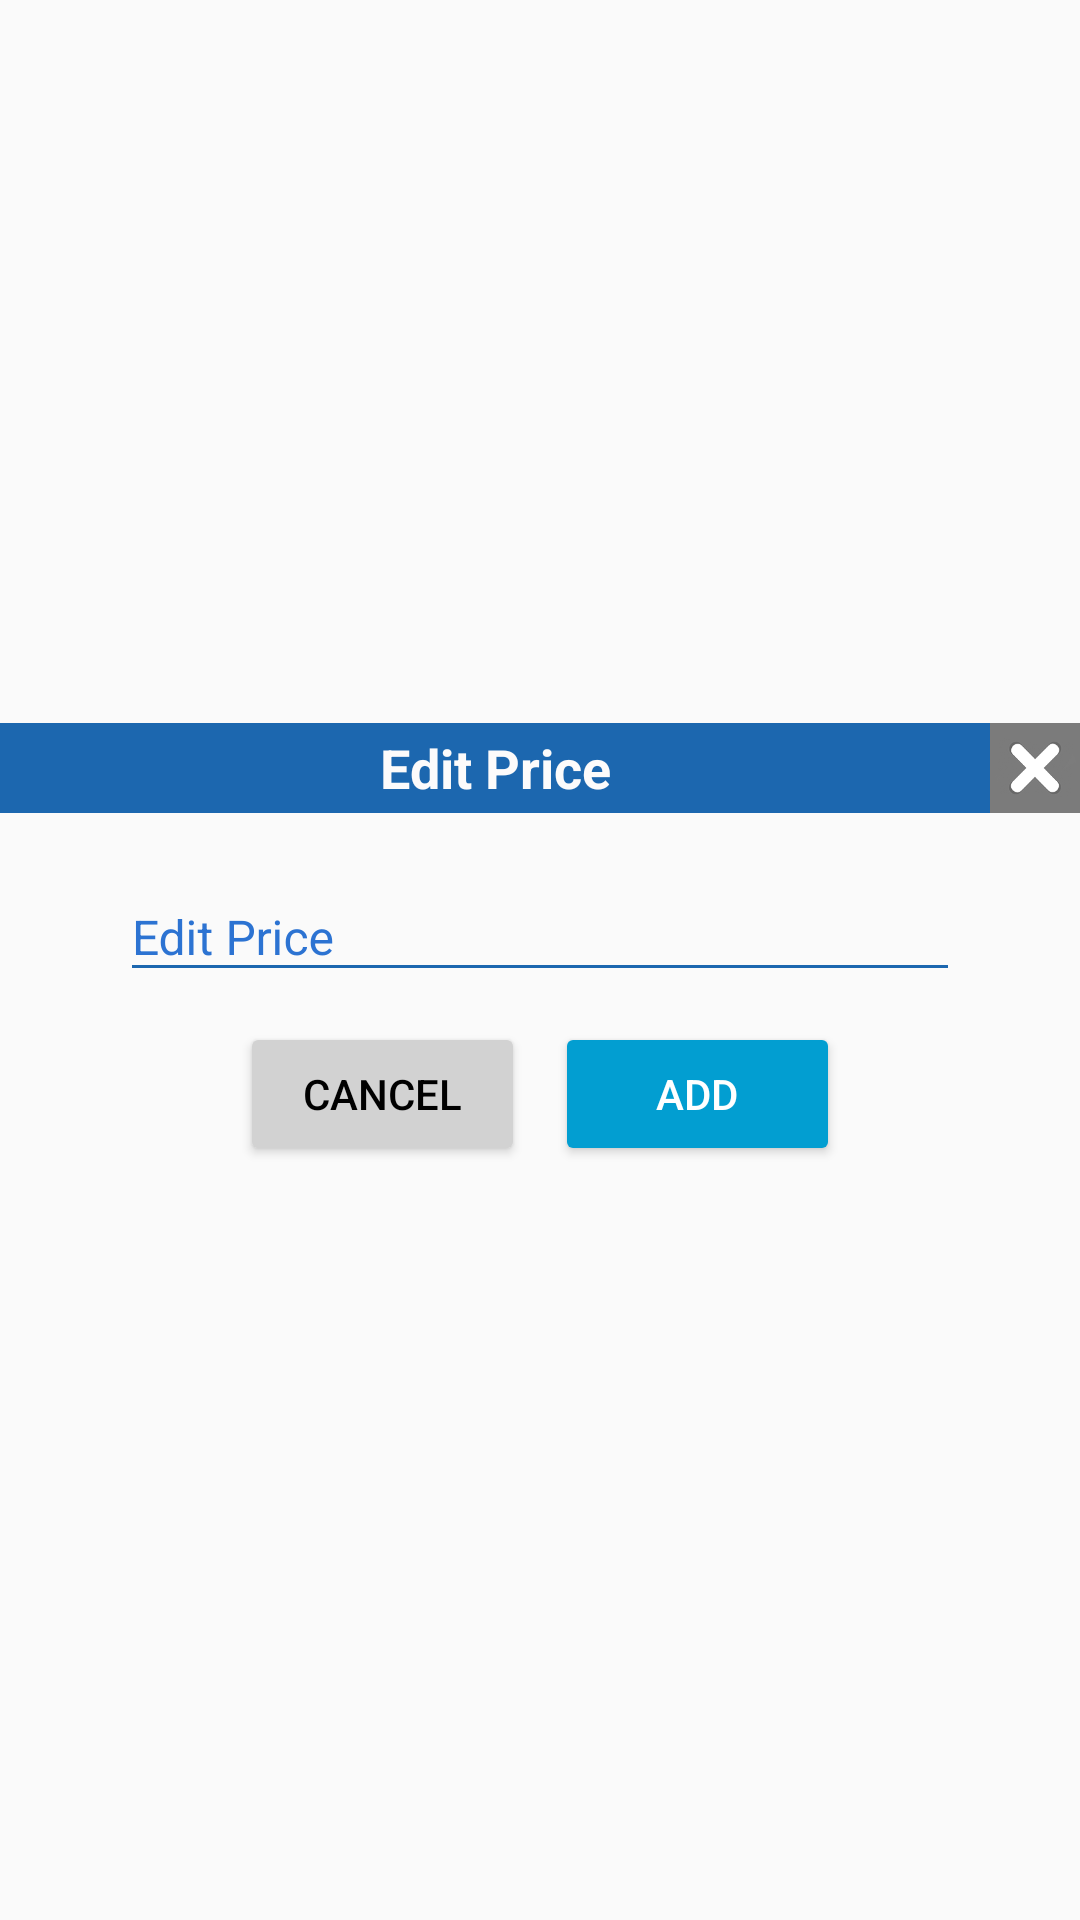

Screen size 1080w x 1920h. Icon name, then its center in pixels as [x,y]:
closered: [1035,768]
